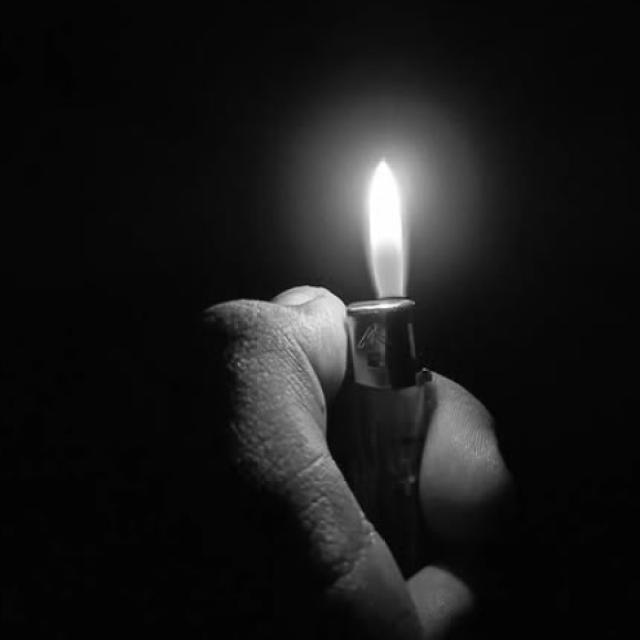fire: (368, 155, 406, 300)
